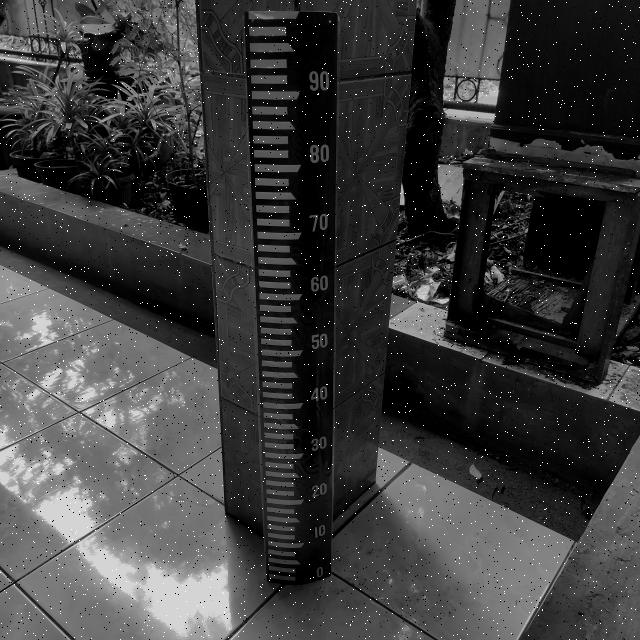10: (310, 521, 330, 543)
20: (311, 481, 330, 500)
30: (307, 430, 329, 453)
40: (309, 382, 330, 406)
50: (307, 331, 330, 351)
60: (308, 273, 330, 294)
70: (305, 210, 331, 235)
80: (306, 139, 332, 166)
90: (304, 66, 330, 95)
staff: (246, 10, 336, 588)
